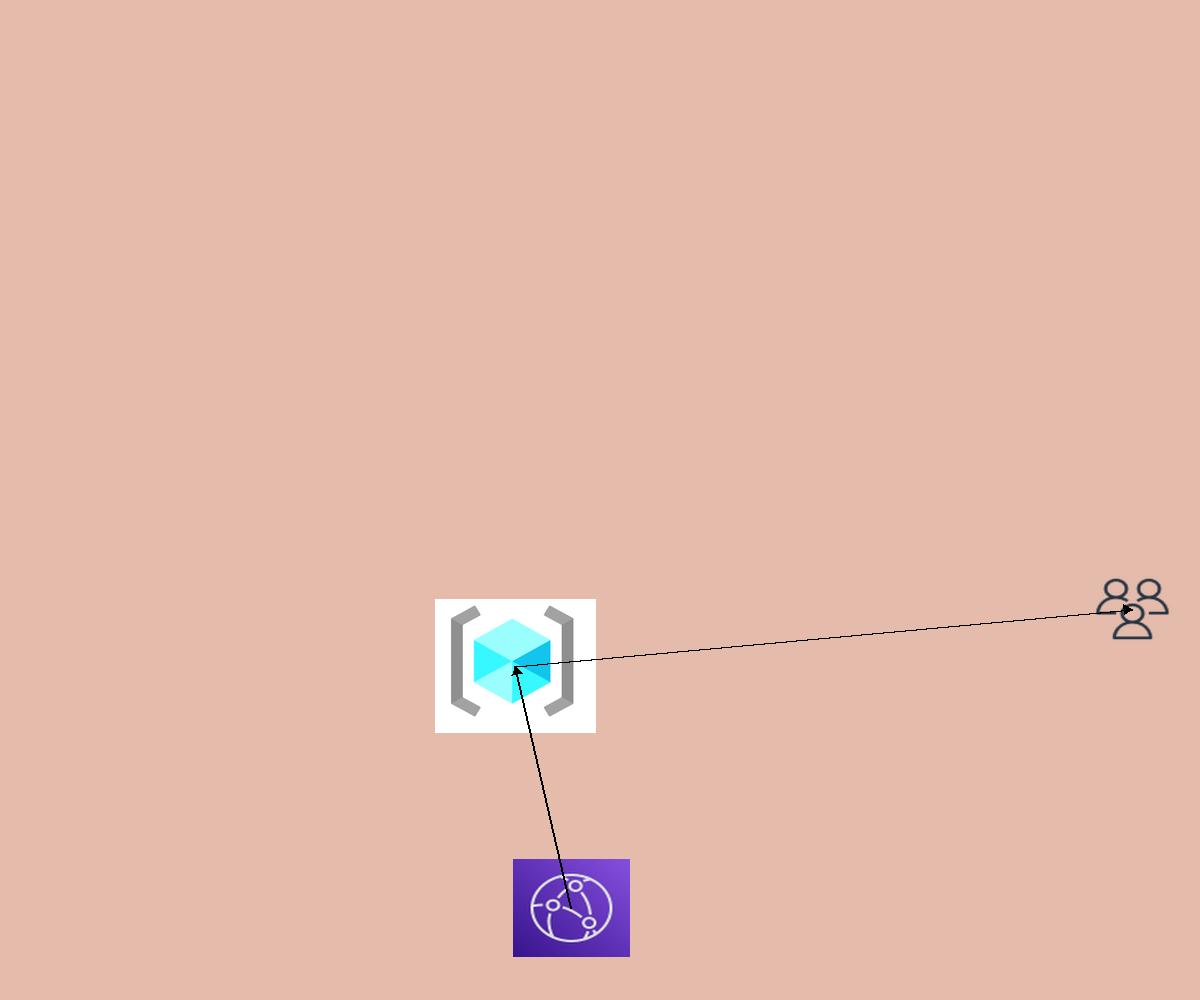AWS-CloudFront: (513, 859, 630, 957)
AWS-Res_Users: (1093, 576, 1172, 642)
Azure_resource_group: (435, 599, 596, 733)
